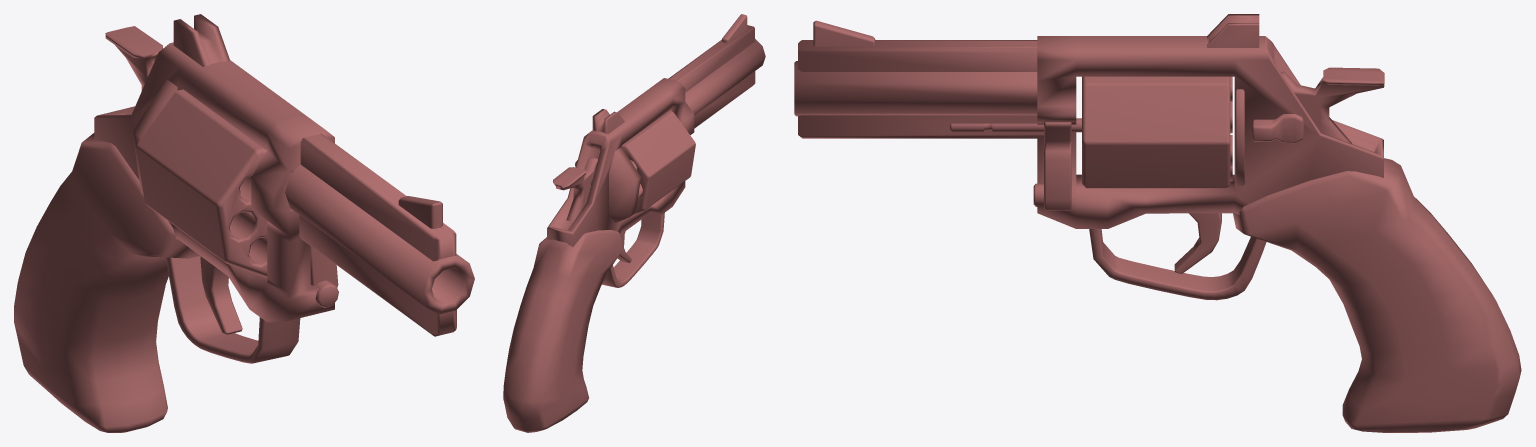
The model's file is pistol.fbx.
3 views of the same model, side by side, from view 1: azimuth 30°, elevation 25°; view 2: azimuth 150°, elevation 25°; view 3: azimuth 270°, elevation 25° (orthographic). The views are drawn at different scales.
Visible parts, largest first — view 1: pasted__pCube13, pasted__pCylinder8, pasted__pCube6, pasted__pCube12, polySurface60, polySurface61; view 2: pasted__pCube13, pasted__pCylinder8, pasted__pCube6; view 3: pasted__pCube13, pasted__pCylinder8, pasted__pCube6, polySurface60, pasted__pCube12, polySurface59.
Part boxes in pixels (bbox=[...]): pasted__pCube13: bbox=[14, 14, 474, 432]; pasted__pCylinder8: bbox=[136, 89, 267, 277]; pasted__pCube6: bbox=[105, 26, 162, 90]; pasted__pCube12: bbox=[200, 256, 242, 334]; polySurface60: bbox=[310, 246, 338, 287]; polySurface61: bbox=[315, 280, 338, 307]; pasted__pCube13: bbox=[503, 14, 765, 432]; pasted__pCylinder8: bbox=[575, 111, 695, 214]; pasted__pCube6: bbox=[553, 157, 597, 221]; pasted__pCube13: bbox=[794, 14, 1521, 432]; pasted__pCylinder8: bbox=[1082, 76, 1230, 188]; pasted__pCube6: bbox=[1281, 67, 1384, 143]; polySurface60: bbox=[1044, 122, 1071, 210]; pasted__pCube12: bbox=[1174, 213, 1221, 273]; polySurface59: bbox=[950, 118, 1081, 132].
Bounding box in the file's own units: 52.54 × 174 × 283.
